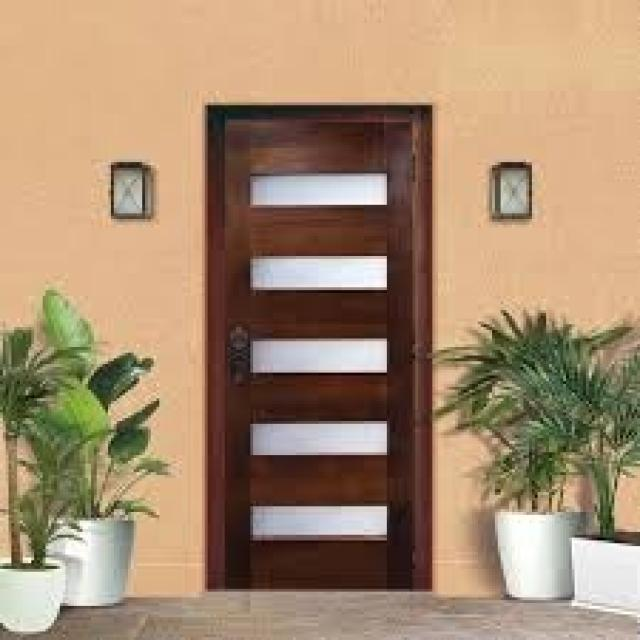door: (206, 103, 434, 592)
